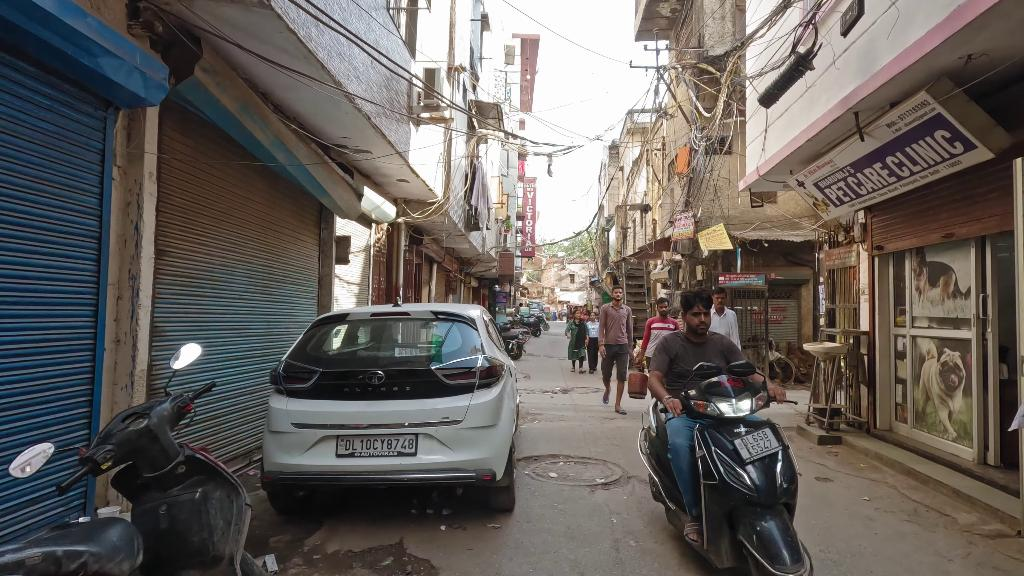garbage: (260, 555, 281, 573)
